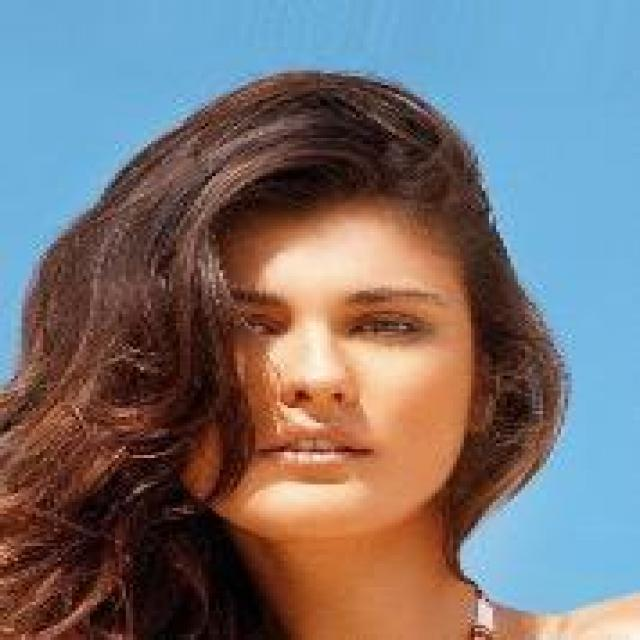nomask: (101, 158, 521, 558)
